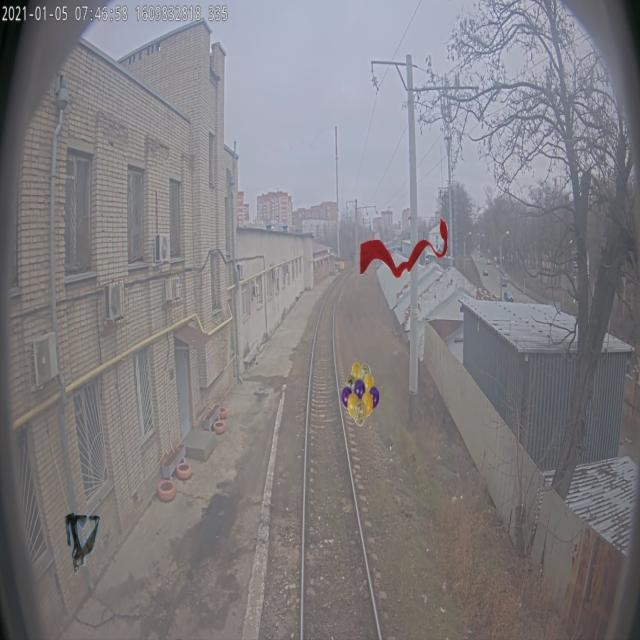balloon: (341, 362, 380, 426)
floating object: (359, 216, 449, 280), (64, 511, 100, 575)
